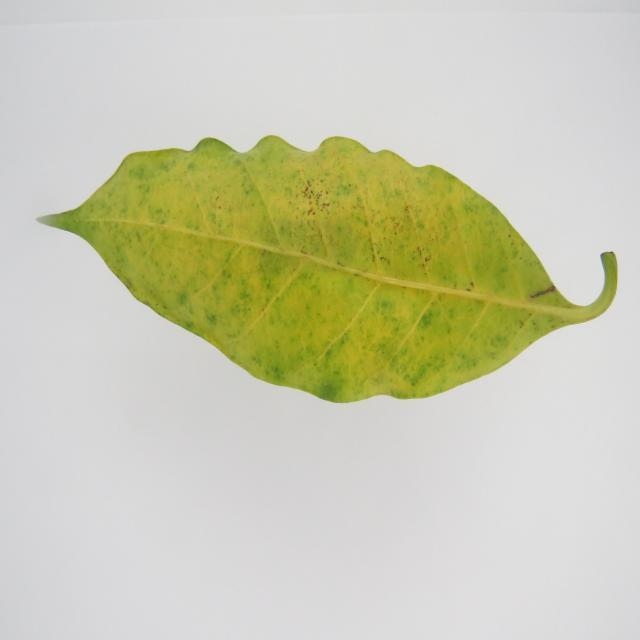DeficienciaNutricional-Calcio: (40, 137, 618, 402)
